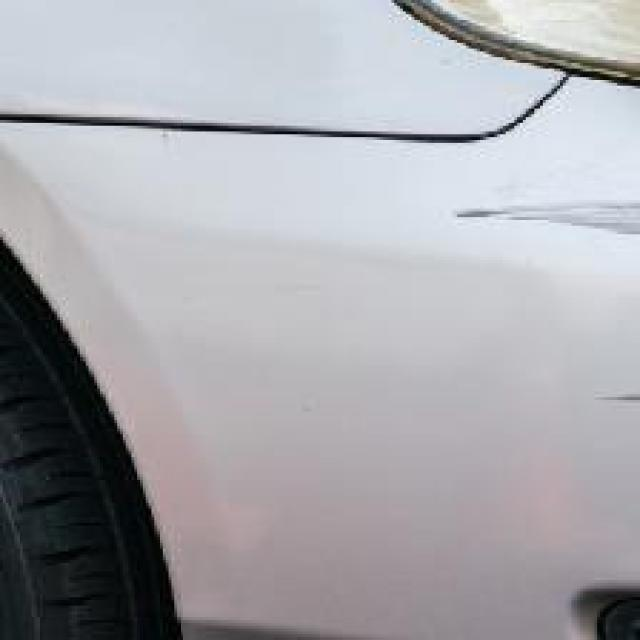bumper_scratch_minor: (454, 200, 637, 231)
